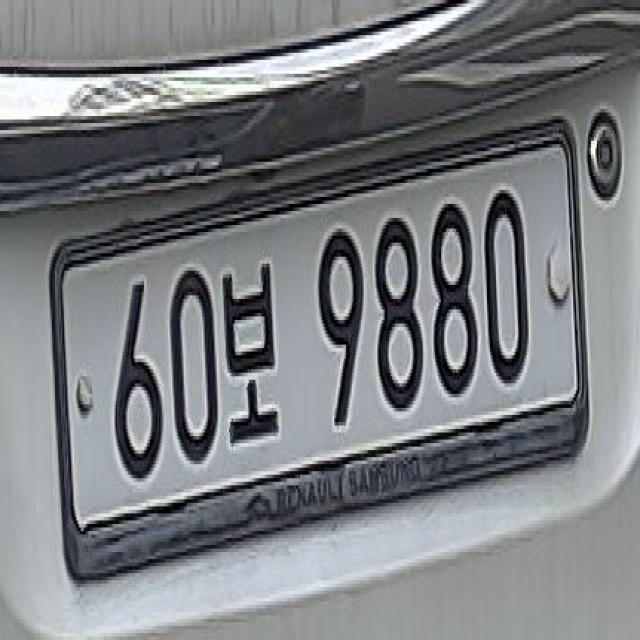0: (167, 254, 221, 476), (482, 180, 535, 392)
6: (110, 271, 164, 493)
8: (369, 212, 426, 416), (430, 187, 480, 409)
9: (311, 219, 366, 438)
bo: (222, 241, 284, 456)
license_plate: (36, 95, 604, 625)
